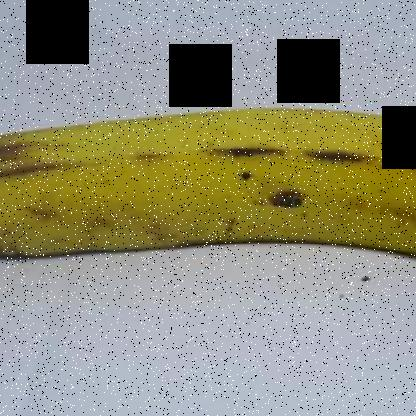ripe: (1, 88, 415, 291)
